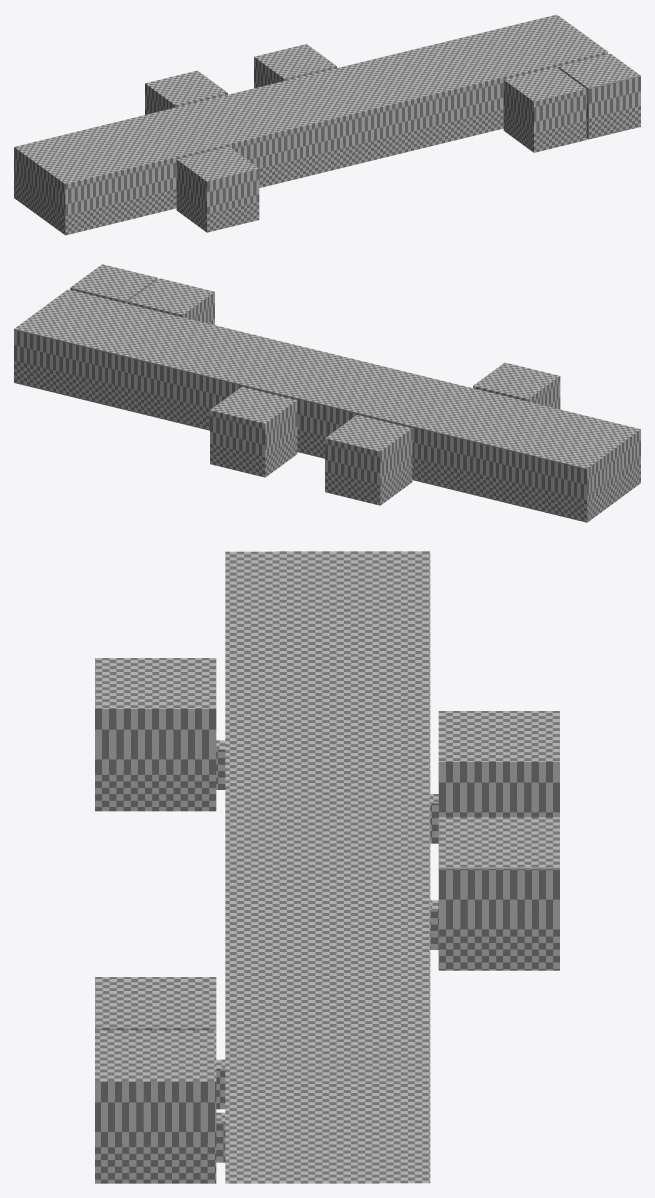
The model's file is prv1d-1.obj.
3 renders of one model, top to bottom at view 1: azimuth 30°, elevation 25°; view 2: azimuth 150°, elevation 25°; view 3: azimuth 270°, elevation 25°, orthographic. The views are drawn at different scales.
Parts seen in each view (by area): view 1: Cube; view 2: Cube; view 3: Cube.
Boxes of the visible parts, x1,y1,x2,y2 form: Cube: [14, 14, 640, 235]; Cube: [14, 264, 640, 522]; Cube: [95, 551, 559, 1183].
Bounding box in the file's own units: 53.83 × 4.84 × 19.94.
